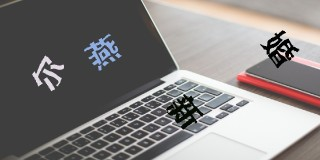婚: (259, 25, 300, 69)
尔: (31, 55, 65, 93)
新: (166, 91, 202, 131)
燕: (83, 32, 124, 72)
